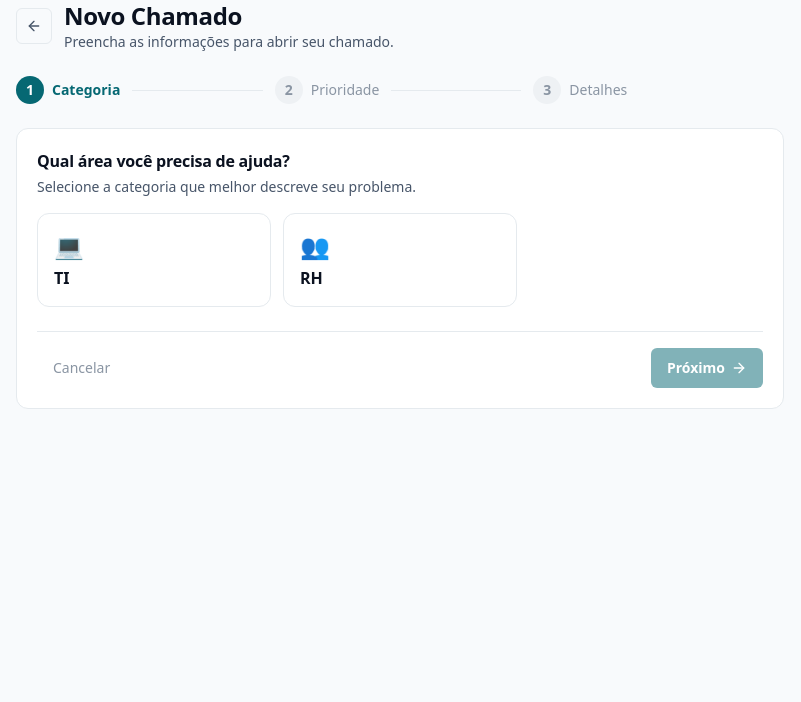
Test case: NovoChamadoPage (F2.4) › FE02: bloqueia o envio quando título/descrição estão vazios
Click the radio button labelled "💻 TI". click: (154, 260)
box: [37,213,271,307]
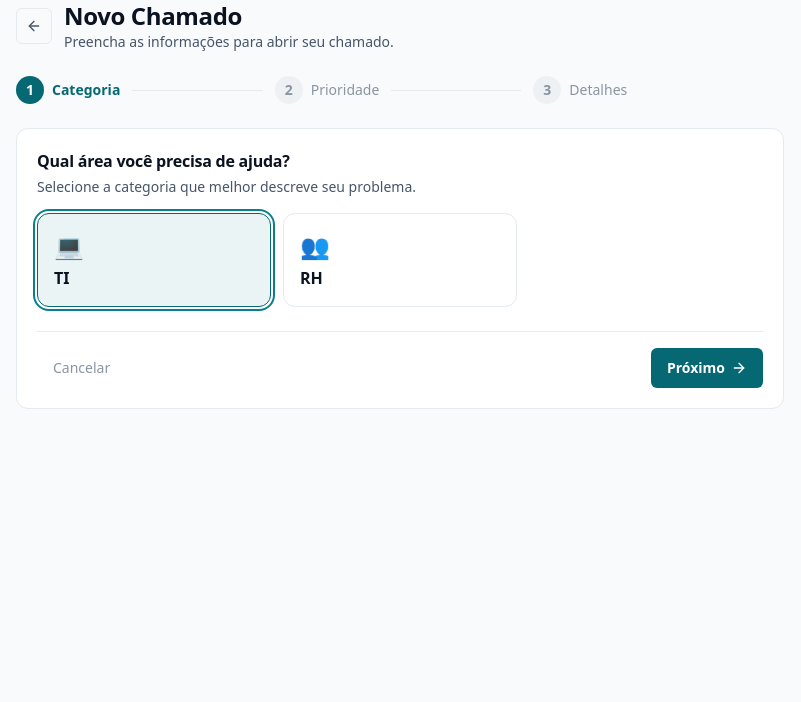
Click the button "Próximo". click: (707, 368)
box: [651,348,763,388]
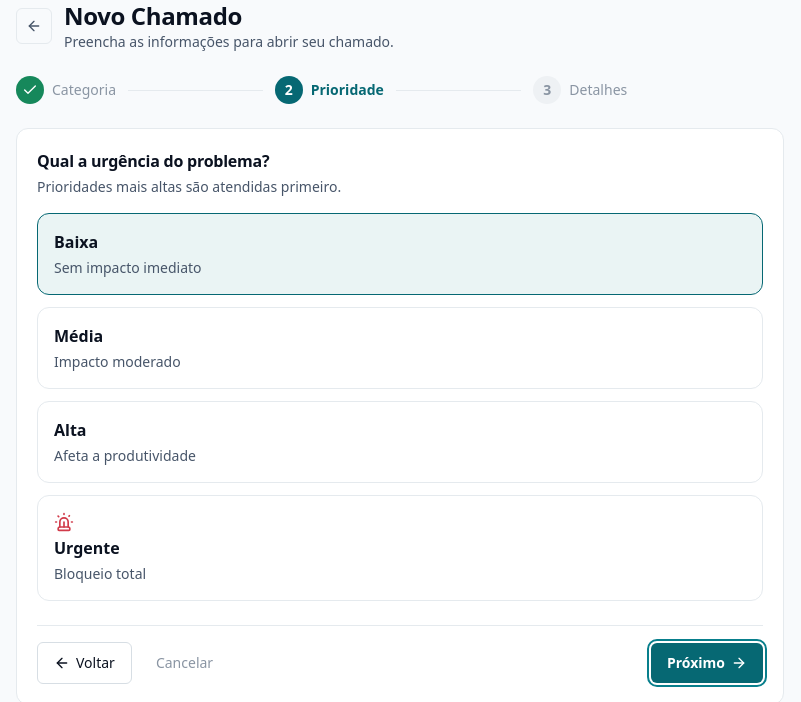
Click the radio button labelled "Baixa Sem impacto imediato". click: (76, 242)
box: [37,213,763,295]
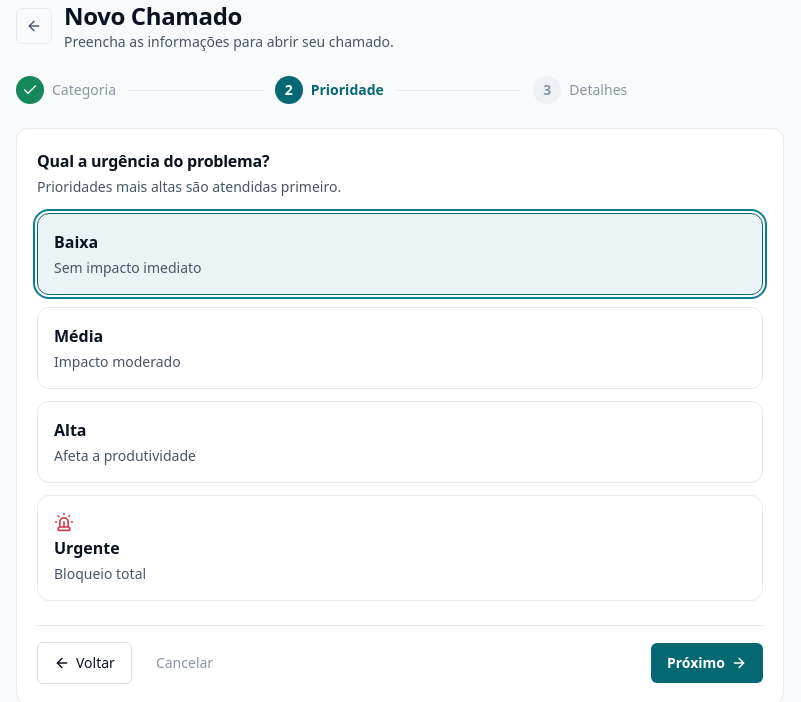
Click the button "Próximo". click: (707, 663)
box: [651,643,763,683]
(page scrolled)
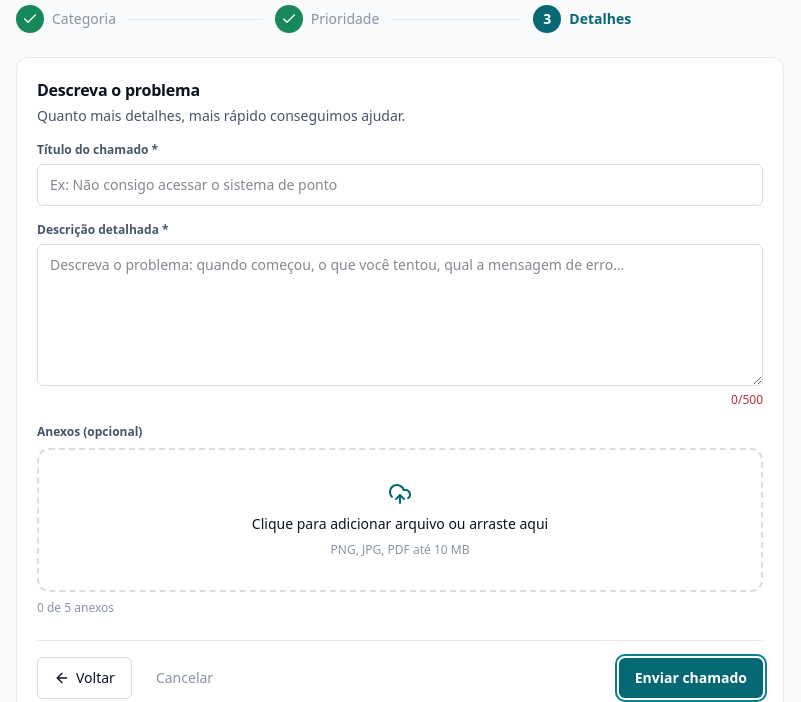
Note: Etapa 3 sem preencher → mensagens de erro e sem confirmação.
Click the button "Enviar chamado". click: (691, 678)
box: [619,658,763,698]
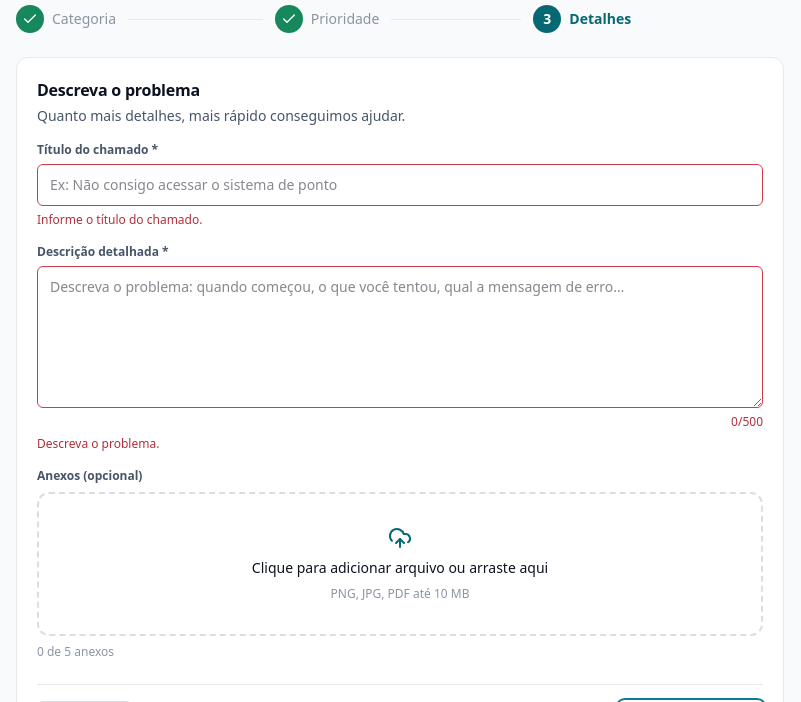
Now the text "Informe o título do chamado." is shown, box [37,211,202,228]
Now the text "Descreva o problema." is shown, box [37,435,159,452]
